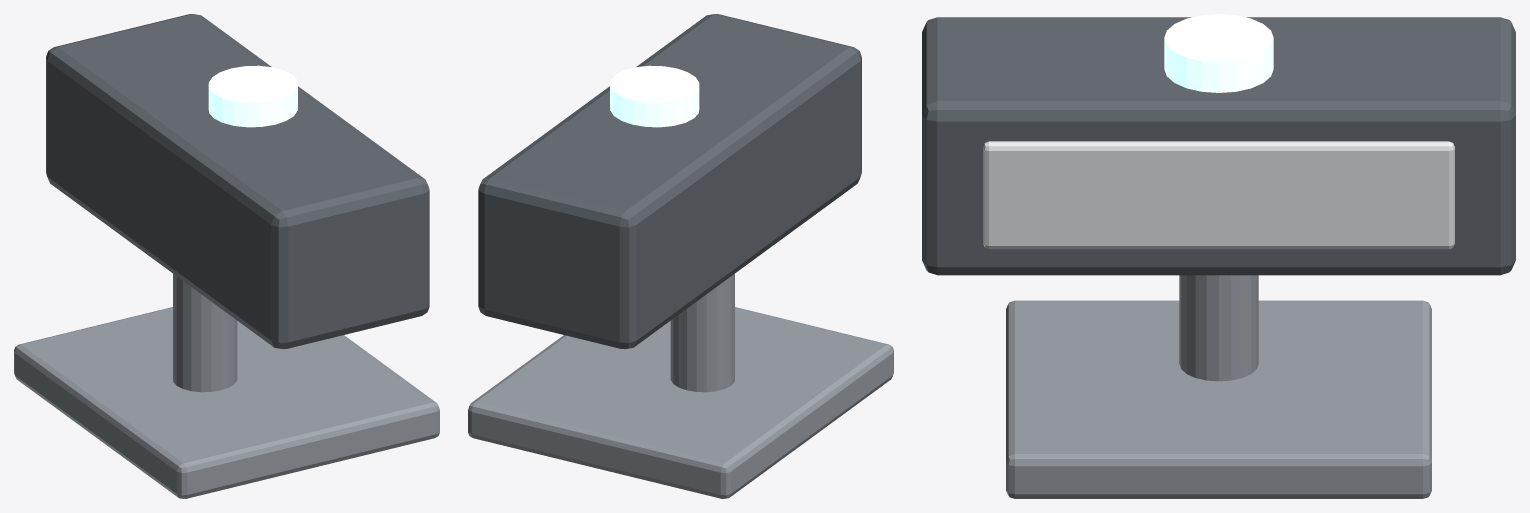
Rendered from SM_MotionSensor.fbx.
The picture shows the model from 3 angles, left to right: view 1: azimuth 30°, elevation 25°; view 2: azimuth 150°, elevation 25°; view 3: azimuth 270°, elevation 25°; orthographic projection. The views are drawn at different scales.
Parts seen in each view (by area): view 1: SM_MotionSensor; view 2: SM_MotionSensor; view 3: SM_MotionSensor.
Boxes of the visible parts, left/top/right/bottom form: SM_MotionSensor: left=14, top=14, right=439, bottom=498; SM_MotionSensor: left=468, top=14, right=893, bottom=498; SM_MotionSensor: left=922, top=14, right=1515, bottom=498.
Bounding box in the file's own units: 19.5 × 12.5 × 14.5.
